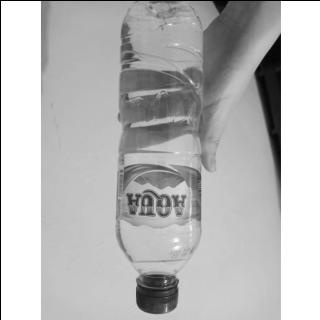plastic_bottles: (112, 1, 206, 312)
